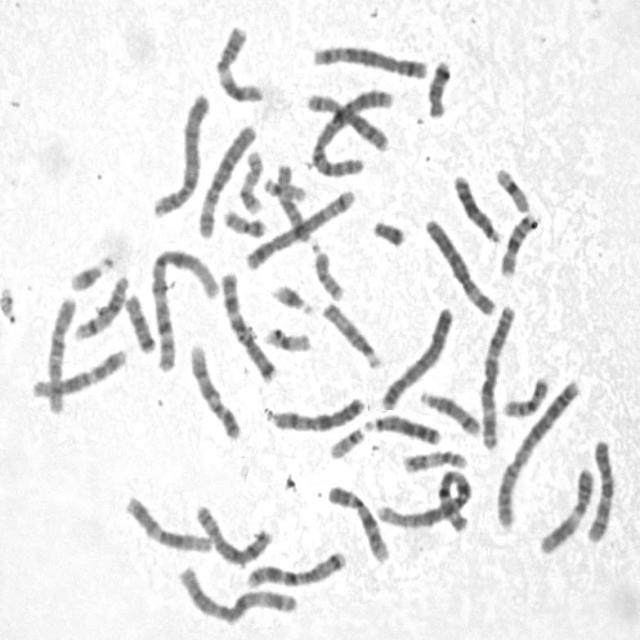A1: (148, 247, 220, 373), (377, 469, 474, 535)
A2: (495, 378, 581, 530), (310, 88, 394, 181)
A3: (178, 564, 298, 625), (479, 304, 517, 451)
B4: (380, 307, 454, 412), (152, 95, 211, 221)
B5: (245, 189, 356, 272), (313, 43, 429, 80)
C10: (45, 296, 78, 416), (584, 438, 616, 544)
C11: (539, 468, 595, 556), (214, 24, 265, 104)
C12: (122, 496, 214, 556), (31, 349, 128, 400)
C6: (423, 218, 497, 317), (197, 123, 257, 242)
C7: (219, 272, 278, 386), (246, 553, 347, 590)
C8: (306, 93, 392, 153), (195, 504, 272, 567)
C9: (190, 343, 242, 442), (327, 484, 391, 563)
D13: (452, 174, 504, 245), (364, 413, 442, 448)
D14: (74, 275, 128, 342), (418, 391, 481, 438)
D15: (275, 162, 322, 255), (320, 301, 382, 371)
E16: (499, 212, 538, 280), (502, 378, 549, 420)
E17: (238, 149, 265, 217), (403, 448, 469, 474)
E18: (124, 293, 156, 354), (426, 61, 449, 120)
F19: (496, 167, 532, 214), (264, 328, 315, 355)
F20: (313, 252, 347, 304), (222, 210, 266, 240)
G21: (67, 256, 113, 295), (270, 284, 314, 318)
G22: (327, 426, 365, 462), (263, 176, 307, 203)
X: (272, 397, 366, 433)
Y: (372, 218, 404, 252)
